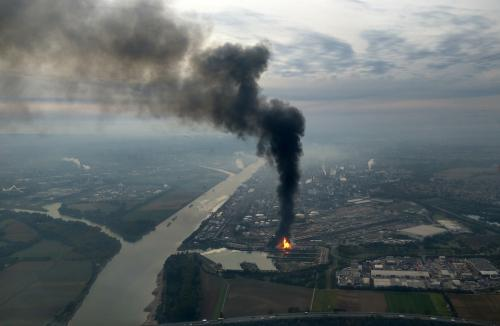smoke: (1, 1, 304, 230)
